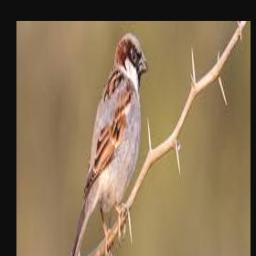Sparrow: (67, 31, 148, 256)
